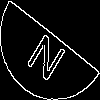N: (25, 25, 72, 83)
